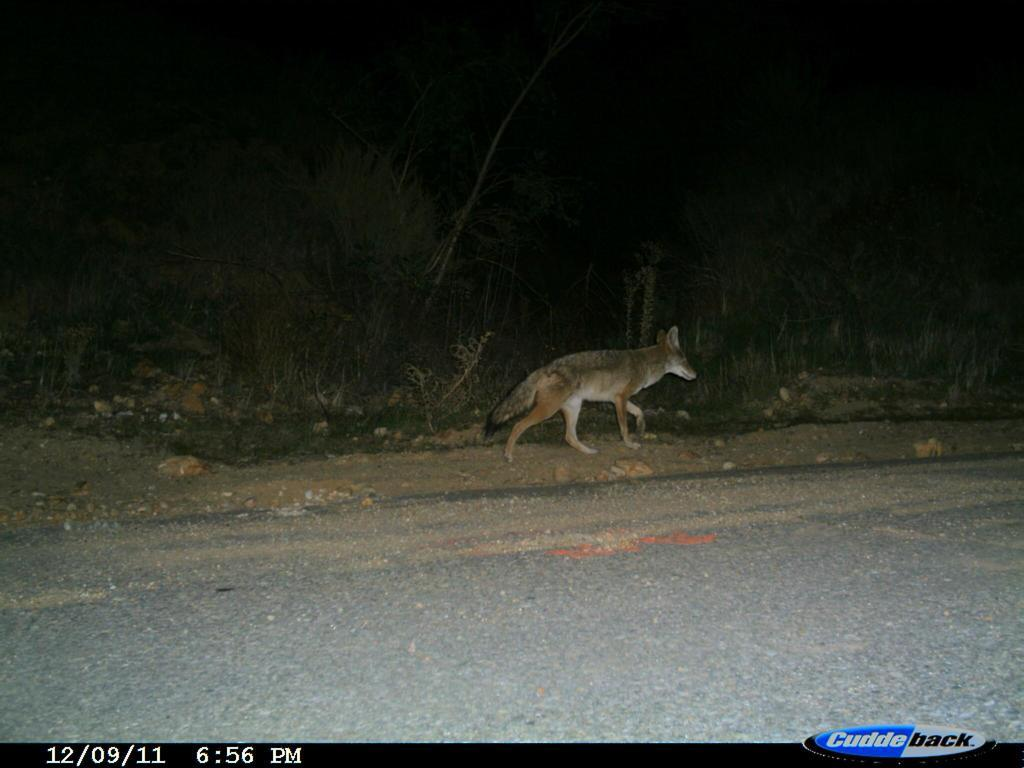coyote: (469, 323, 711, 472)
